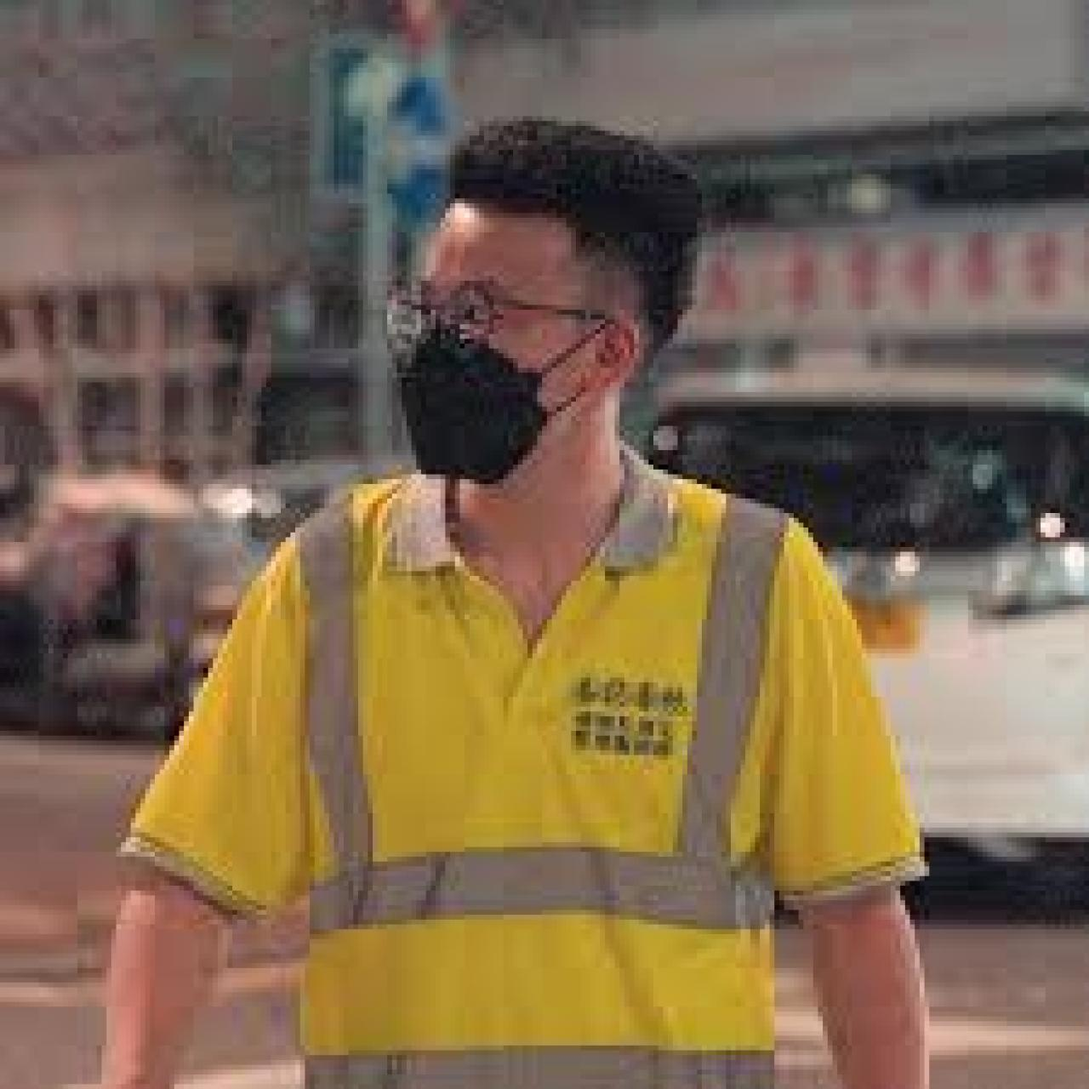NO_Safety_Vest: (186, 466, 872, 1089)
Person: (56, 101, 993, 1089)
